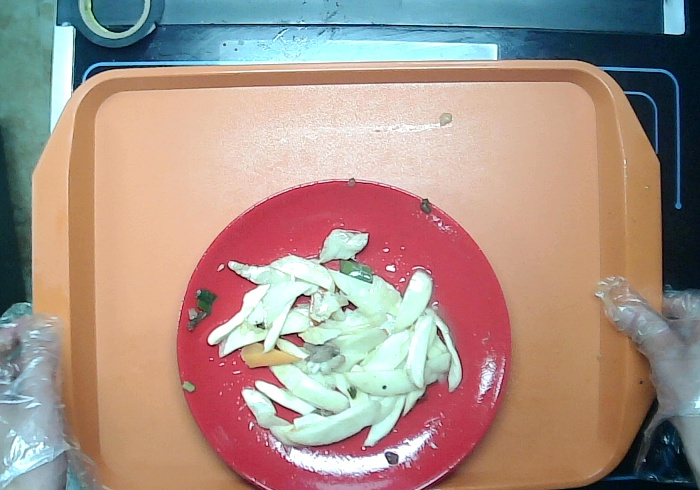HZYJPL-Hong_Se_Yuan_Pan: (174, 172, 516, 490)
